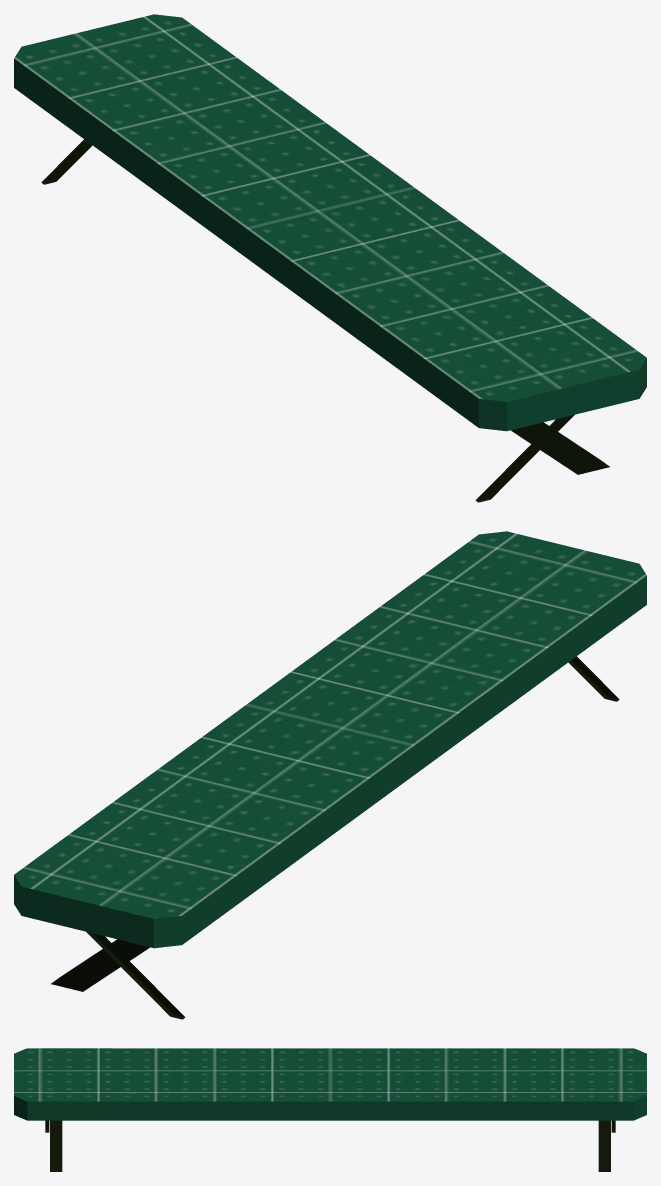
The model's file is desk_stand03.fbx.
3 views of the same model, one above another, from view 1: azimuth 30°, elevation 25°; view 2: azimuth 150°, elevation 25°; view 3: azimuth 270°, elevation 25° (orthographic). The views are drawn at different scales.
Visible parts, largest first — view 1: 받침대, 받침기둥2, 받침기둥1; view 2: 받침대, 받침기둥2, 받침기둥1; view 3: 받침대, 받침기둥1.
Part boxes in pixels (x1,y1,x2,y2): 받침대: [14, 14, 646, 431]; 받침기둥2: [41, 139, 574, 502]; 받침기둥1: [511, 422, 609, 474]; 받침대: [14, 531, 646, 948]; 받침기둥2: [86, 656, 619, 1019]; 받침기둥1: [51, 939, 149, 991]; 받침대: [14, 1048, 646, 1120]; 받침기둥1: [50, 1120, 610, 1171].
Size of the model in its own units: 23.99 by 16 by 120.
Materials: 2 (1 with a texture image).
